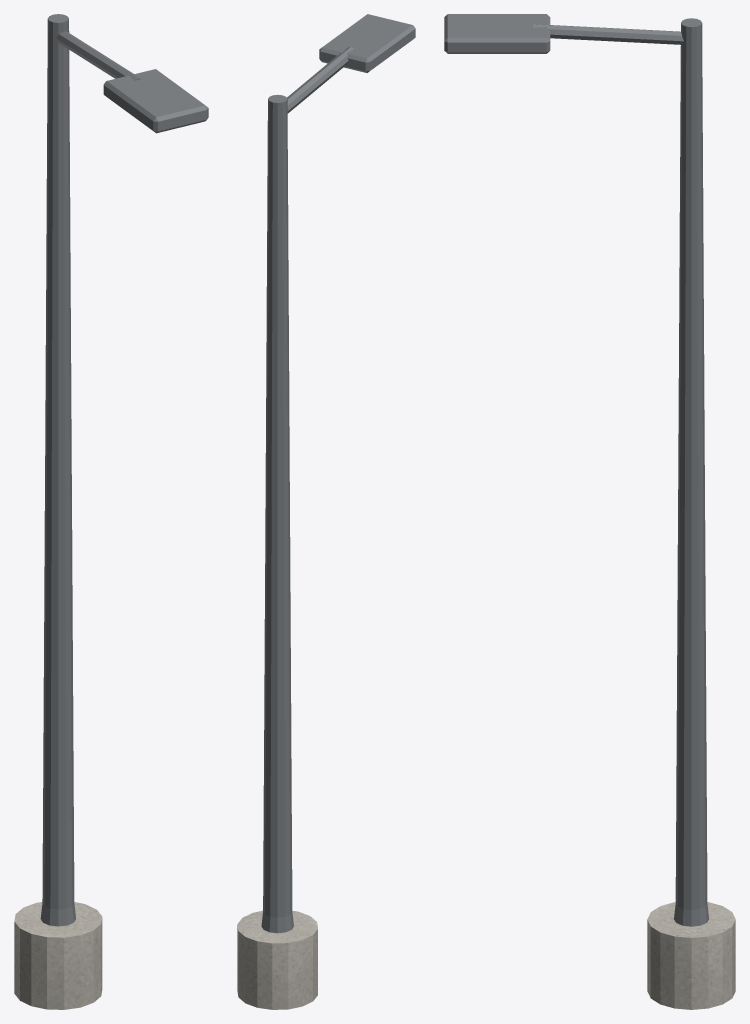
File: lamp_pole.glb
The picture shows the model from 3 angles, left to right: view 1: azimuth 30°, elevation 25°; view 2: azimuth 150°, elevation 25°; view 3: azimuth 270°, elevation 25°; orthographic projection. The views are drawn at different scales.
Visible parts, largest first — view 1: lamp_pole_steel_d, lamp_pole_concrete; view 2: lamp_pole_steel_d, lamp_pole_concrete; view 3: lamp_pole_steel_d, lamp_pole_concrete.
Boxes of the visible parts, x1,y1,x2,y2 form: lamp_pole_steel_d: (40, 14, 208, 926); lamp_pole_concrete: (14, 902, 102, 1009); lamp_pole_steel_d: (261, 14, 415, 933); lamp_pole_concrete: (237, 910, 317, 1009); lamp_pole_steel_d: (444, 14, 708, 926); lamp_pole_concrete: (647, 902, 735, 1009).
Bounding box in the file's own units: 0.5 × 6.05 × 1.65.
3 materials, 1 textured.
